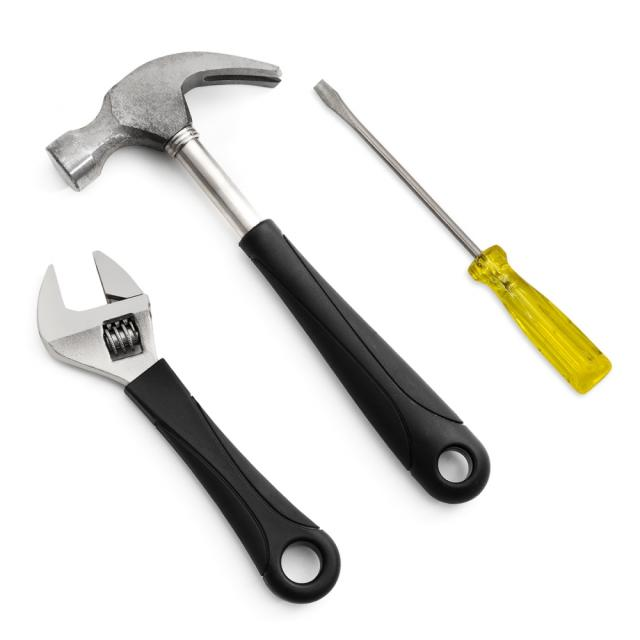Screwdriver: (314, 80, 611, 393)
